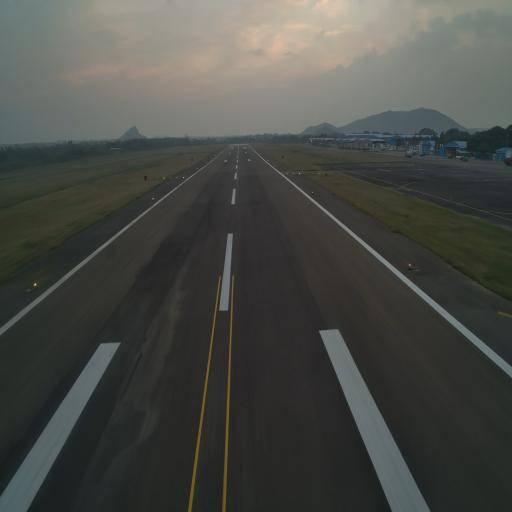on: (32, 279, 38, 291), (406, 260, 412, 270), (152, 196, 155, 202), (311, 190, 315, 194)
